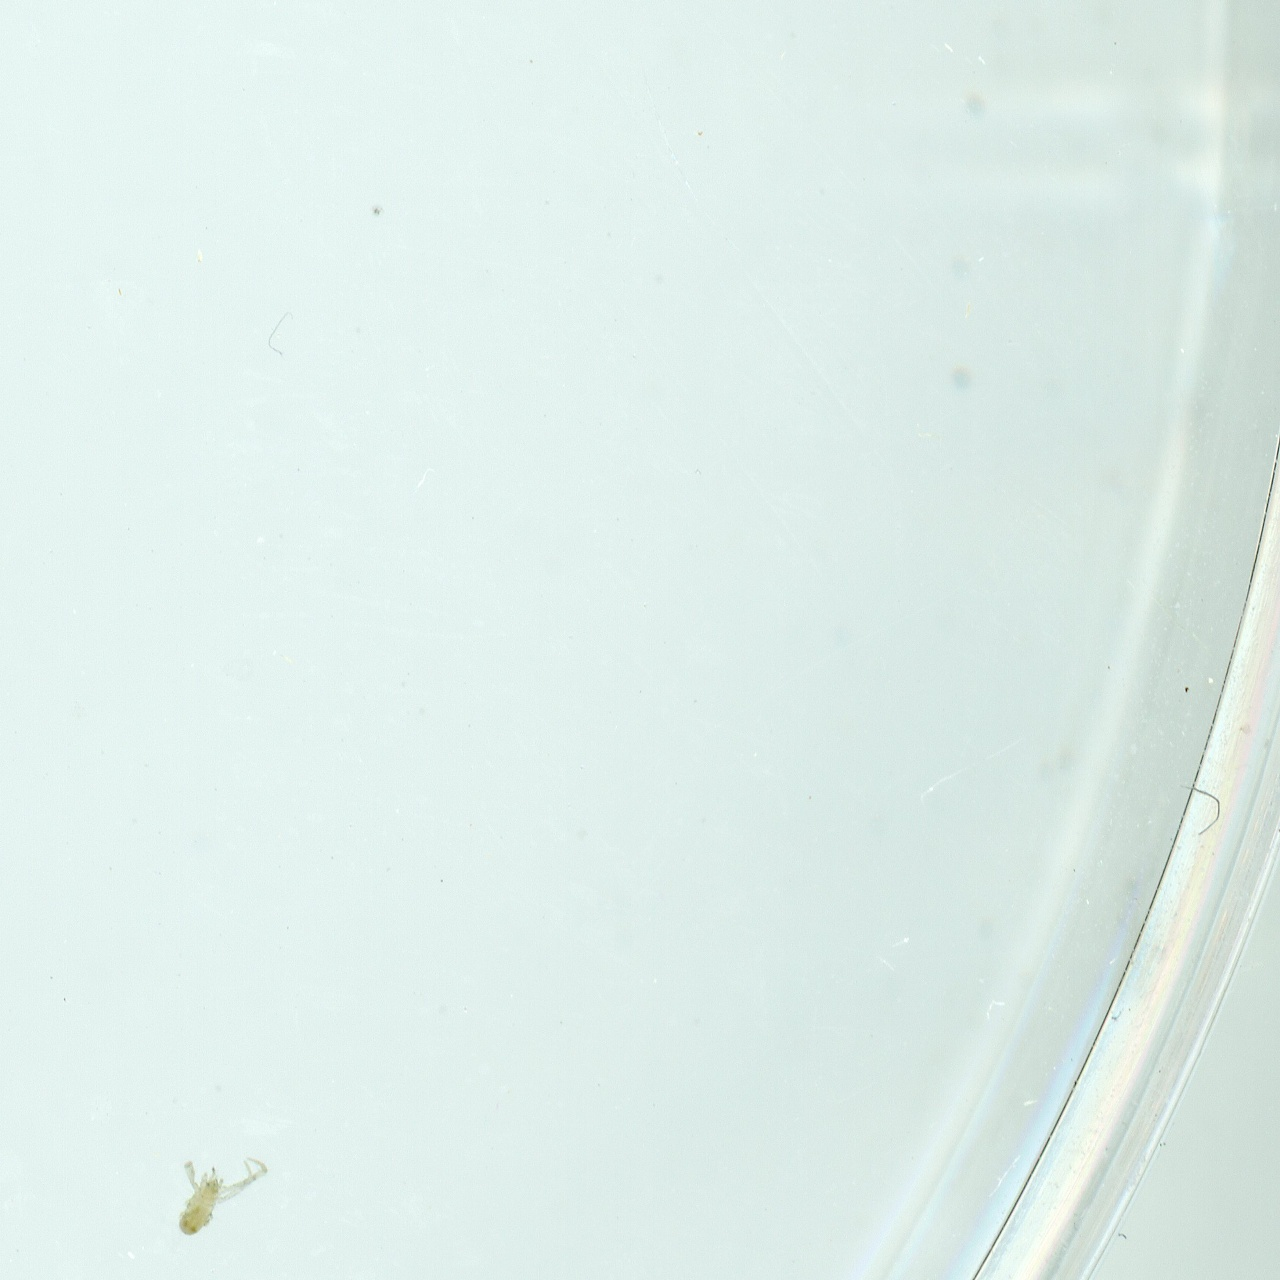arthropod: (158, 1131, 275, 1258)
